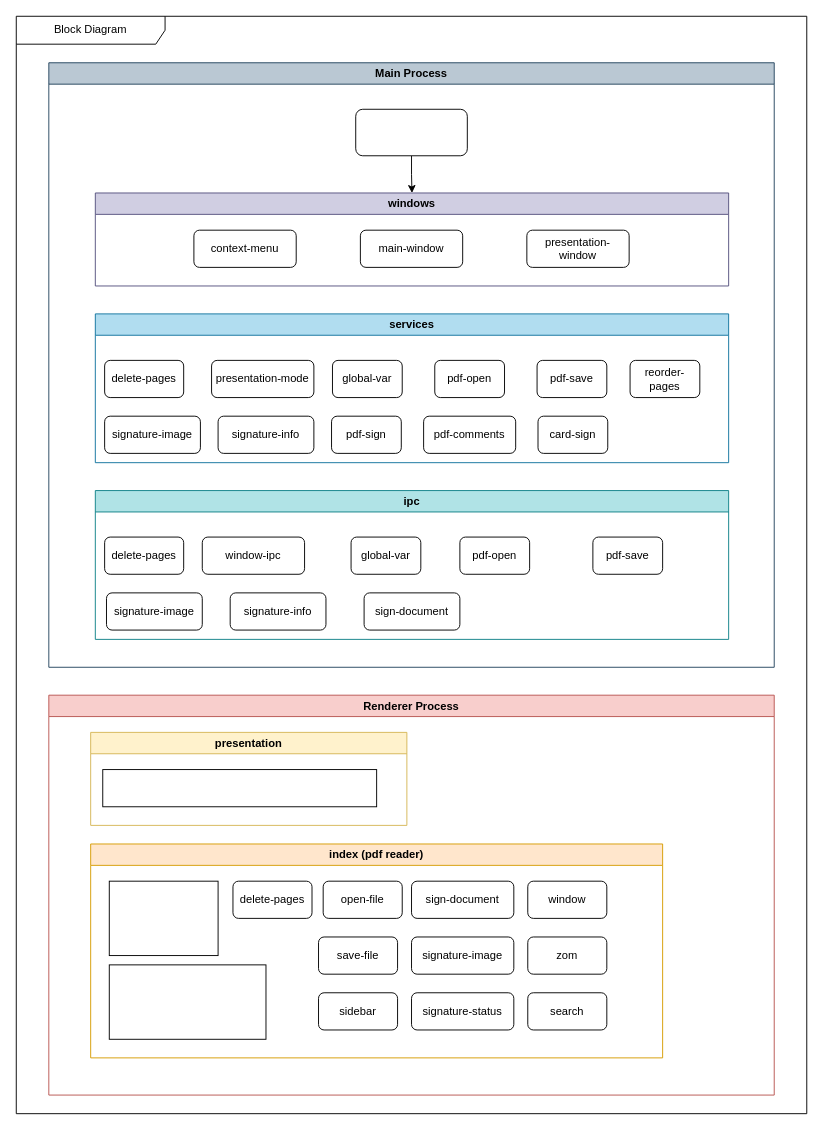
The diagram is 823 pixels wide and 1130 high, and some of its shapes have lost their labels. The centre of each missing label's shape, as x and y in pixels:
AnnotationManager: (187,1001)
main.js: (411,132)
PdfPresentationViewer: (239,788)
PdfViewer: (163,918)
